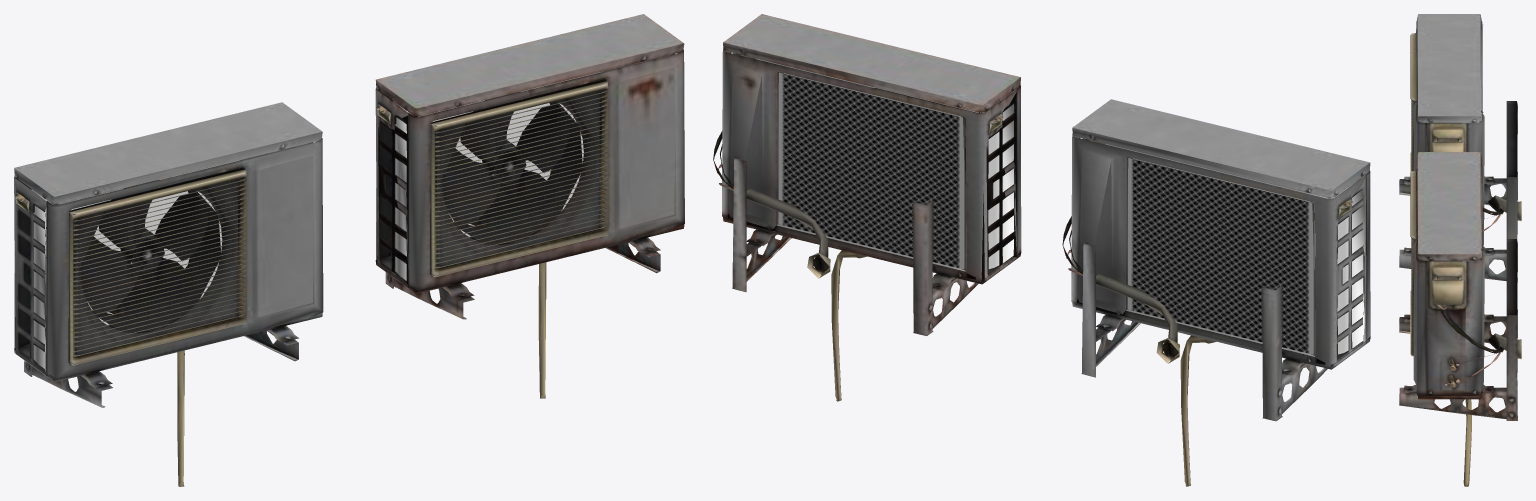
File: exterior_aircon_unit.glb
3 views of the same model, side by side, from view 1: azimuth 30°, elevation 25°; view 2: azimuth 150°, elevation 25°; view 3: azimuth 270°, elevation 25° (orthographic). The views are drawn at different scales.
Parts seen in each view (by area): view 1: exterior_aircon_unit_rusted, exterior_aircon_unit; view 2: exterior_aircon_unit, exterior_aircon_unit_rusted; view 3: exterior_aircon_unit_rusted, exterior_aircon_unit.
Boxes of the visible parts, <box> form: exterior_aircon_unit_rusted: <box>375,14,684,398</box>; exterior_aircon_unit: <box>14,102,323,486</box>; exterior_aircon_unit: <box>1062,99,1370,486</box>; exterior_aircon_unit_rusted: <box>713,14,1021,401</box>; exterior_aircon_unit_rusted: <box>1399,152,1521,486</box>; exterior_aircon_unit: <box>1399,14,1521,282</box>.
Bounding box in the file's own units: 1.8 × 0.927 × 0.3748.
Materials: 4 (4 with a texture image).
